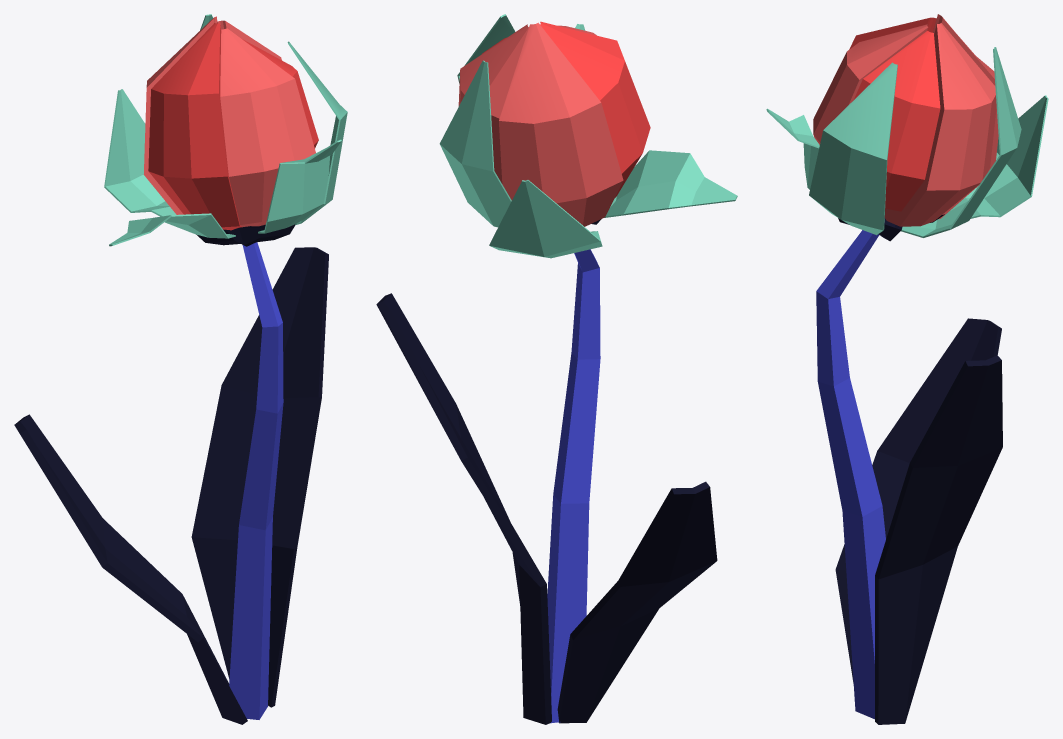
Rendered from st1_flower6.fbx.
3 views of the same model, side by side, from view 1: azimuth 30°, elevation 25°; view 2: azimuth 150°, elevation 25°; view 3: azimuth 270°, elevation 25° (orthographic). The views are drawn at different scales.
Visible parts, largest first — view 1: Circle_007; view 2: Circle_007; view 3: Circle_007.
Boxes of the visible parts, x1,y1,x2,y2 form: Circle_007: (14, 14, 347, 724); Circle_007: (376, 14, 737, 724); Circle_007: (766, 14, 1048, 724).
Bounding box in the file's own units: 151 × 317 × 117.
